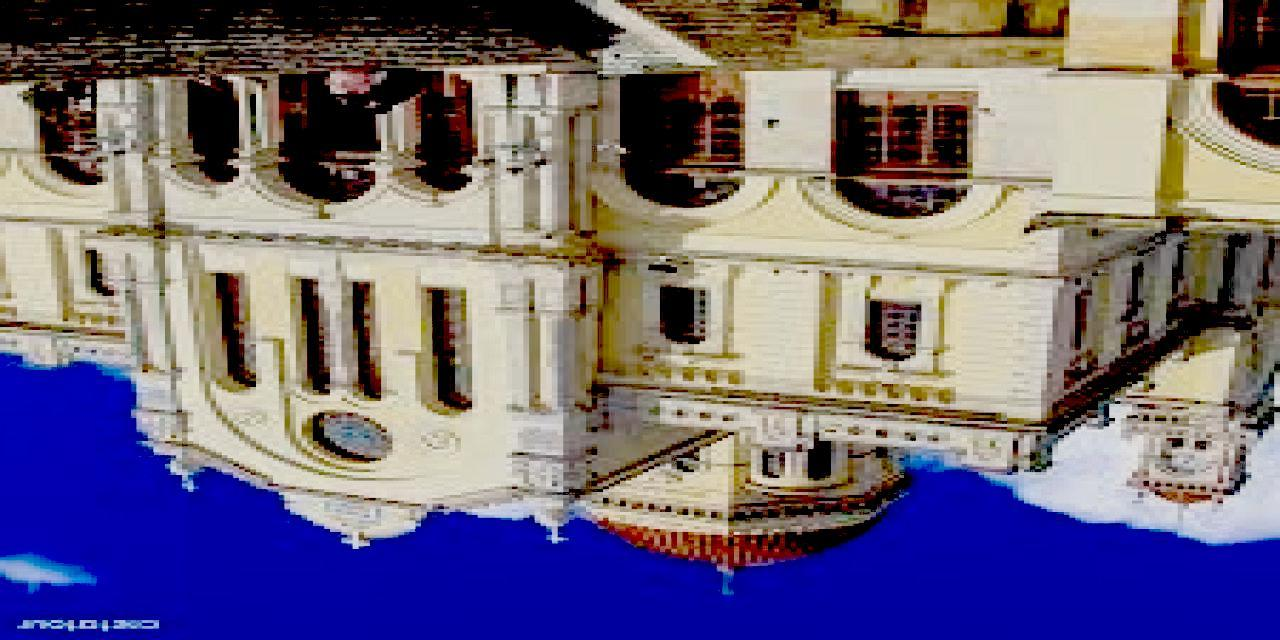Agios Minas: (1, 80, 1280, 588)
